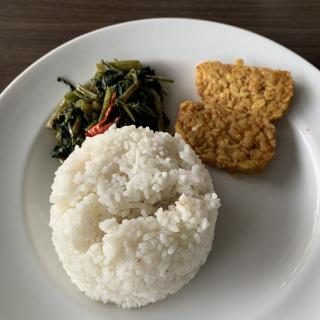Nasi: (52, 129, 220, 308)
